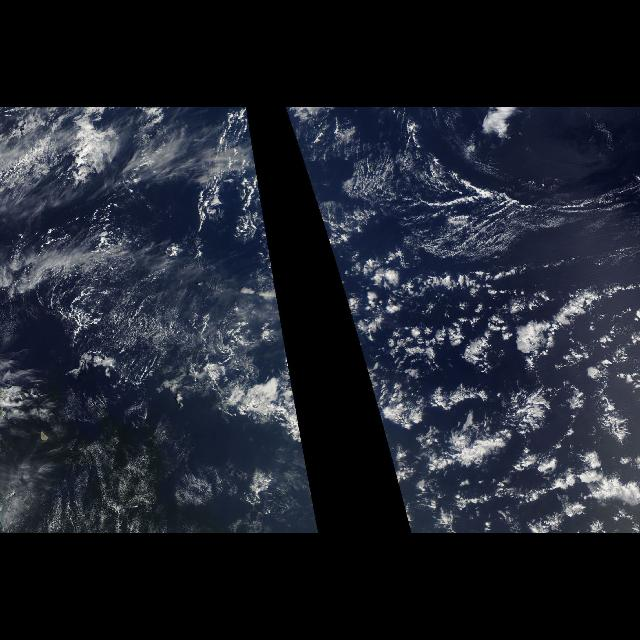Flower: (330, 253, 640, 533), (226, 254, 318, 526)
Sugar: (5, 228, 238, 532), (306, 126, 630, 254)
